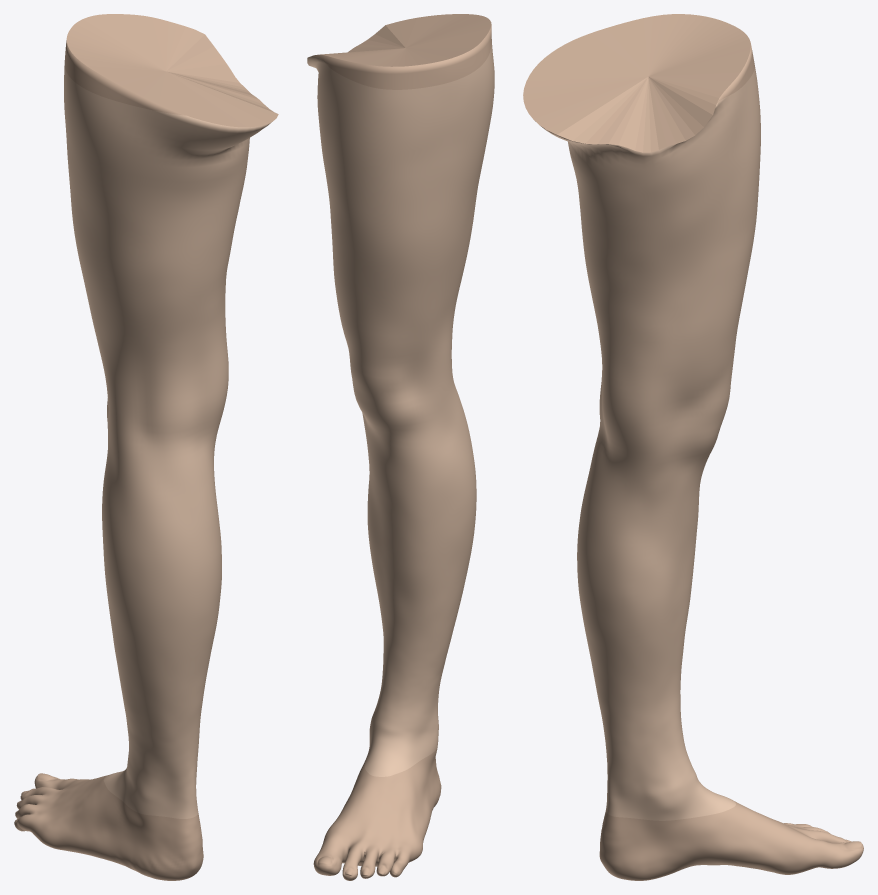
File: female-leg-left.glb
The picture shows the model from 3 angles, left to right: view 1: azimuth 30°, elevation 25°; view 2: azimuth 150°, elevation 25°; view 3: azimuth 270°, elevation 25°; orthographic projection. The views are drawn at different scales.
Visible parts, largest first — view 1: paintable, context; view 2: paintable, context; view 3: paintable, context.
Part boxes in pixels (<box>): paintable: <box>64,66,272,818</box>; context: <box>14,14,278,880</box>; paintable: <box>307,39,494,776</box>; context: <box>313,14,491,880</box>; paintable: <box>535,67,760,820</box>; context: <box>523,14,863,880</box>.
Bounding box in the file's own units: 187 × 901 × 336.
